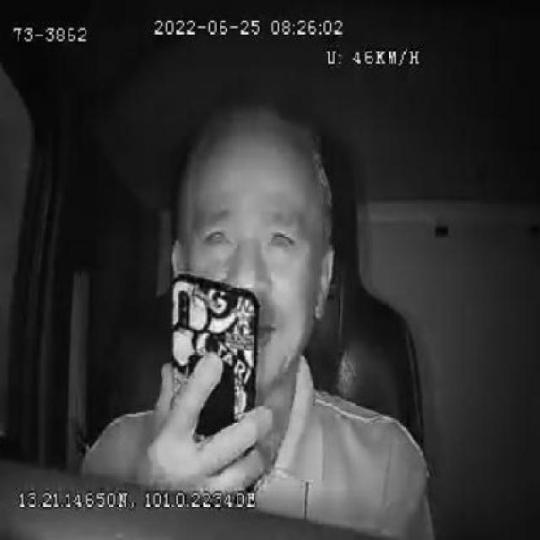phone: (164, 276, 252, 496)
